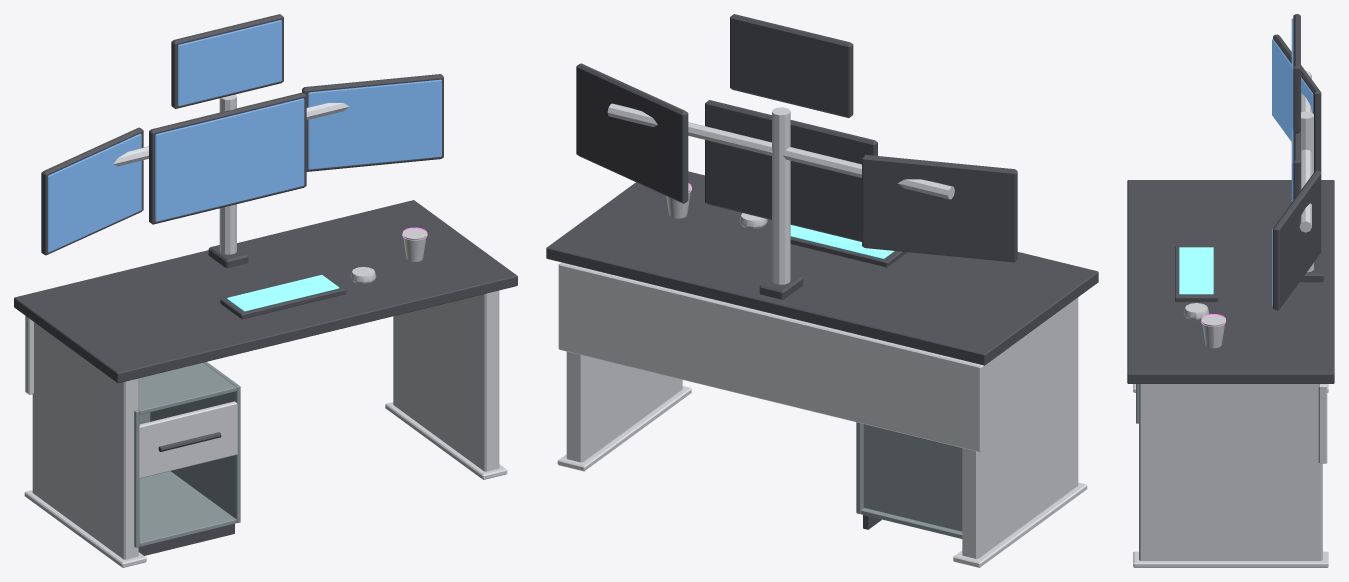
The model's file is cyberpunk-apartment-and-neon-block-desk-with-multi-scr-cd5fab7a__37809.glb.
3 renders of one model, left to right at view 1: azimuth 30°, elevation 25°; view 2: azimuth 150°, elevation 25°; view 3: azimuth 270°, elevation 25°, orthographic. The views are drawn at different scales.
Parts seen in each view (by area): view 1: desk-with-multi-screen-rig, drawer/metal; view 2: desk-with-multi-screen-rig; view 3: desk-with-multi-screen-rig.
Boxes of the visible parts, x1=… form: desk-with-multi-screen-rig: x1=14, y1=14, x2=517, y2=567; drawer/metal: x1=139, y1=401, x2=237, y2=478; desk-with-multi-screen-rig: x1=546, y1=14, x2=1098, y2=567; desk-with-multi-screen-rig: x1=1127, y1=14, x2=1334, y2=567.
Size of the model in its own units: 1.6 by 1.66 by 0.72.
